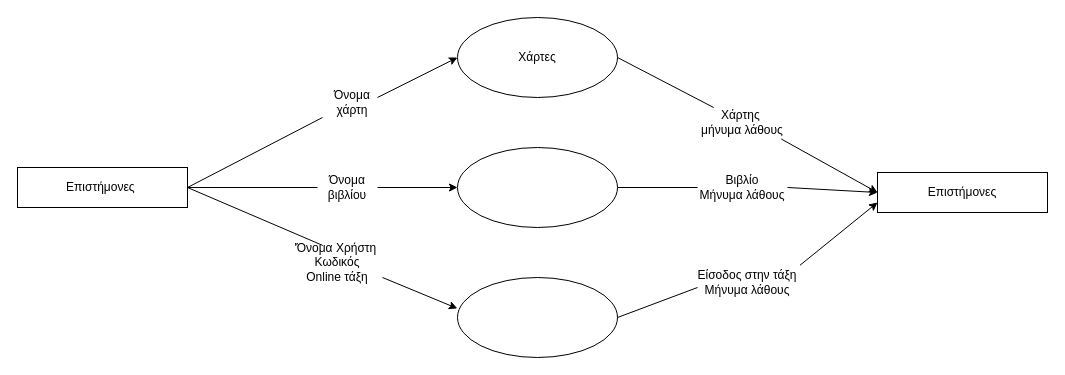
Image size: 1065x375. Some labels were removed from this diagram. Each missing label, with the centre of its shape:
Βιβλιοθήκη: the point at 537,187
Τηλεδιάσκεψη: the point at 537,317
